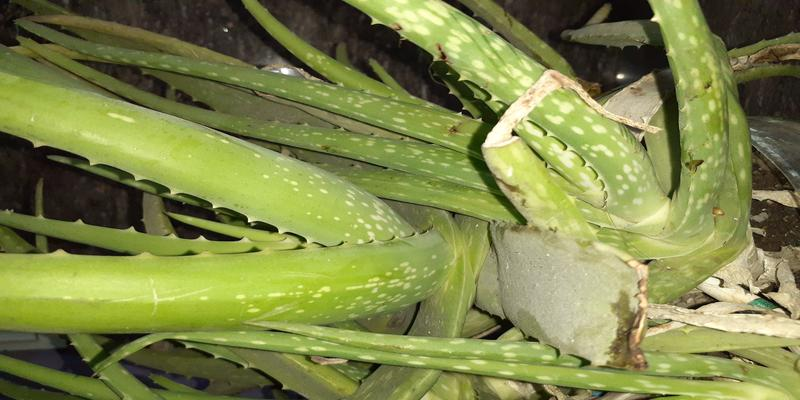Aloevera: (194, 43, 778, 388)
